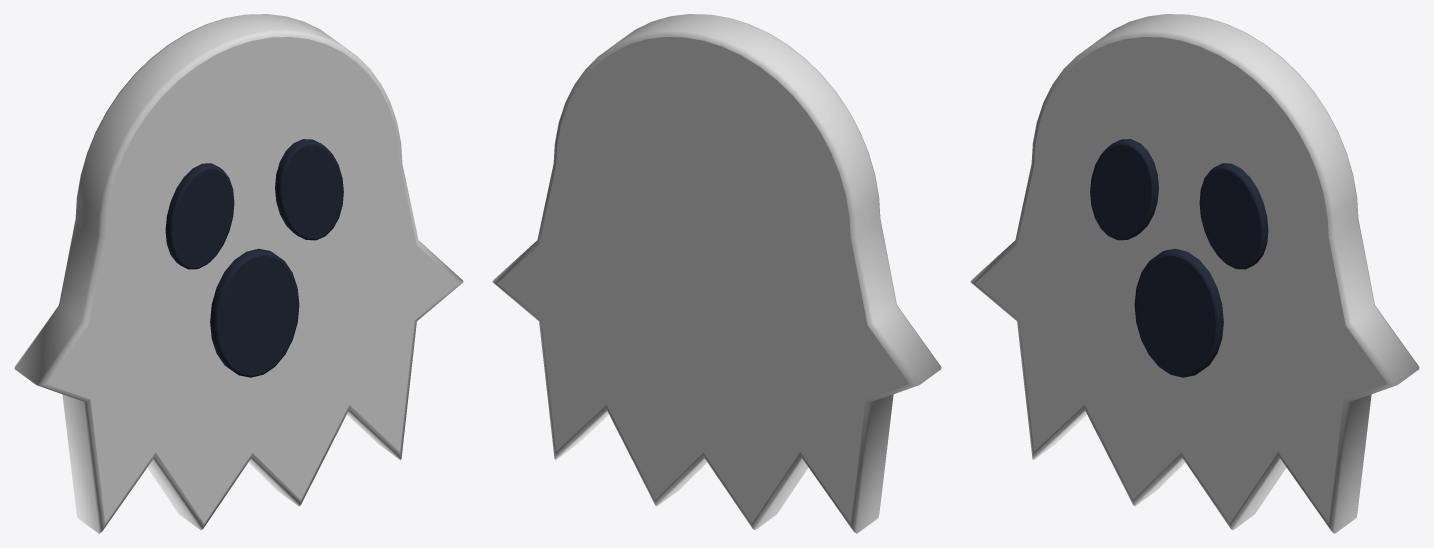
File: spooky_ghost.glb
3 renders of one model, left to right at view 1: azimuth 30°, elevation 25°; view 2: azimuth 150°, elevation 25°; view 3: azimuth 330°, elevation 25°, orthographic.
Parts seen in each view (by area): view 1: Ghost drawn silhouette, Ghost open wail, Ghost left eye, Ghost right eye; view 2: Ghost drawn silhouette; view 3: Ghost drawn silhouette, Ghost open wail, Ghost right eye, Ghost left eye.
Boxes of the visible parts, x1,y1,x2,y2 form: Ghost drawn silhouette: (14,14,463,533); Ghost open wail: (210,248,299,377); Ghost left eye: (165,163,234,269); Ghost right eye: (275,139,343,240); Ghost drawn silhouette: (492,14,941,533); Ghost drawn silhouette: (970,14,1419,533); Ghost open wail: (1134,248,1223,377); Ghost right eye: (1199,163,1268,269); Ghost left eye: (1090,139,1158,240).
Bounding box in the file's own units: 2.03 × 2.2 × 0.269.
